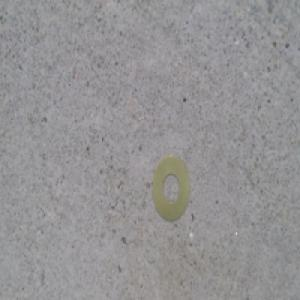Washer: (150, 153, 191, 223)
